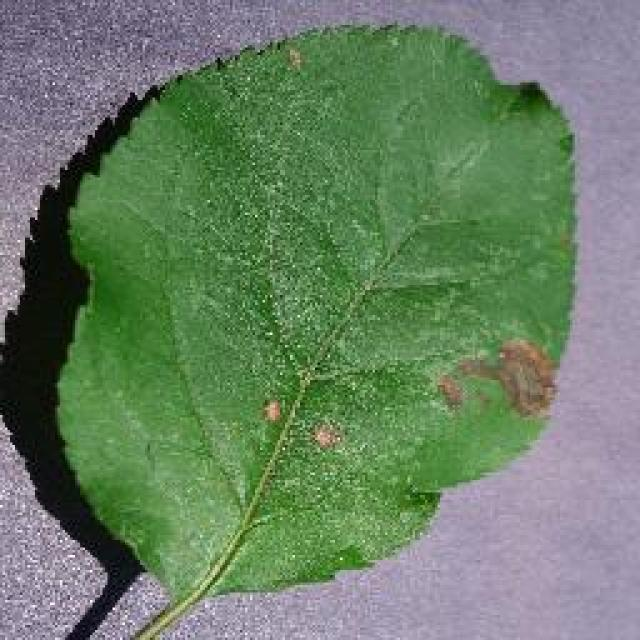apple healthy: (0, 17, 582, 637)
